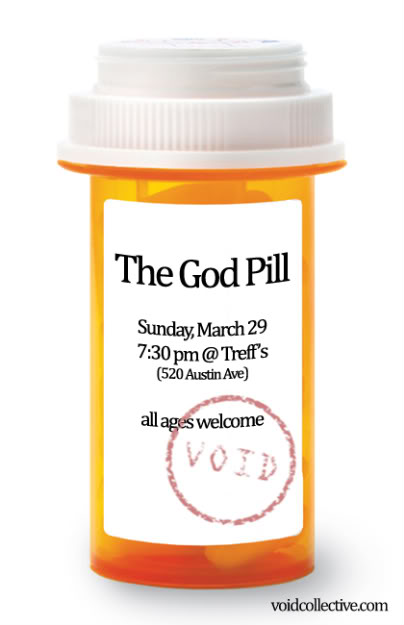pill bottle: (60, 37, 343, 590)
